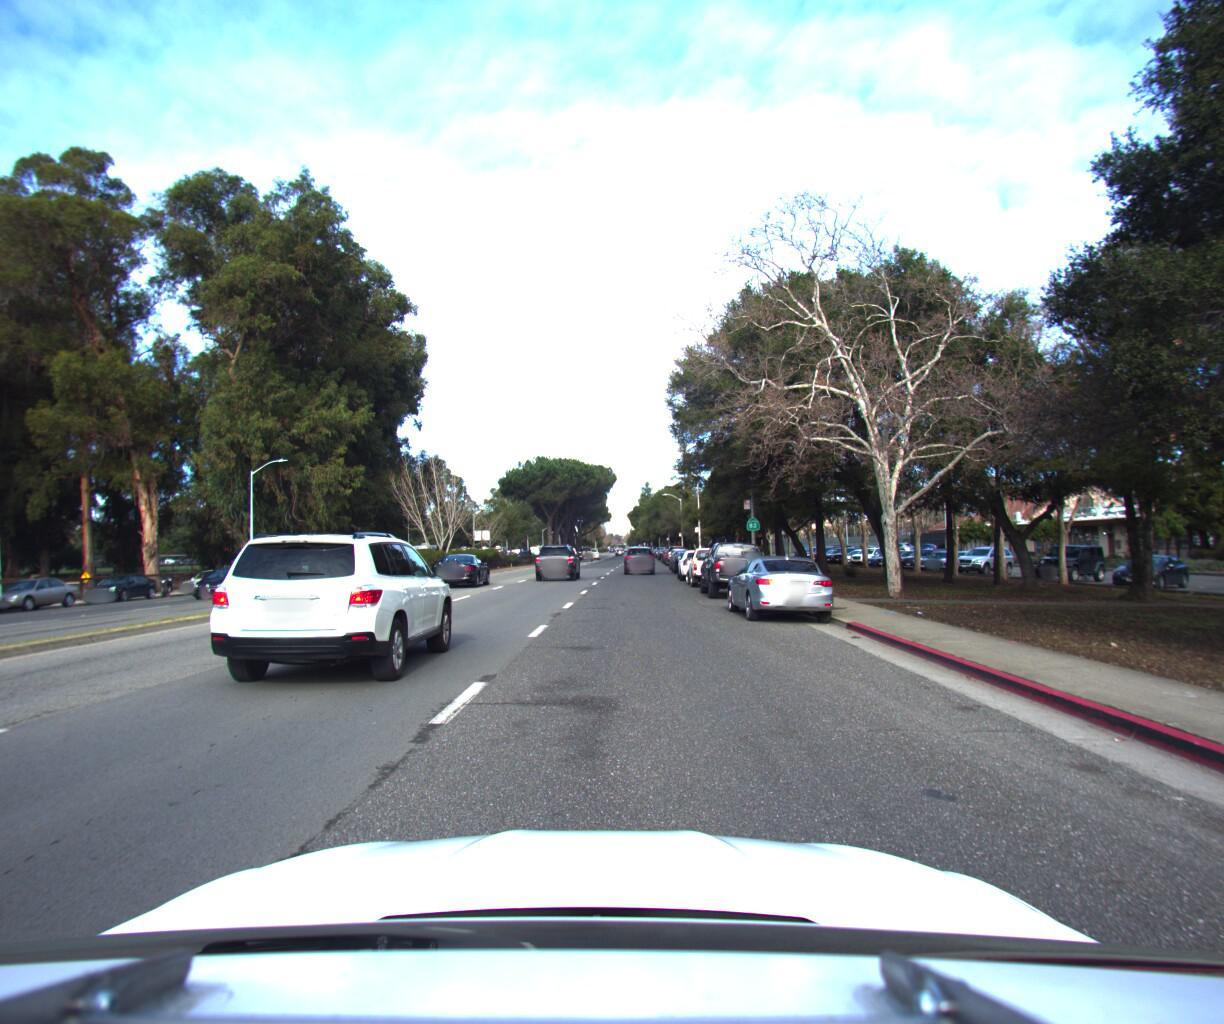car: (185, 520, 467, 704), (718, 543, 844, 627), (697, 531, 780, 599), (81, 564, 172, 600), (684, 534, 742, 584), (177, 556, 255, 592), (189, 553, 265, 589), (429, 546, 493, 585), (530, 534, 582, 577), (676, 539, 725, 576), (622, 537, 655, 567)
motorcycle: (154, 563, 187, 590)
